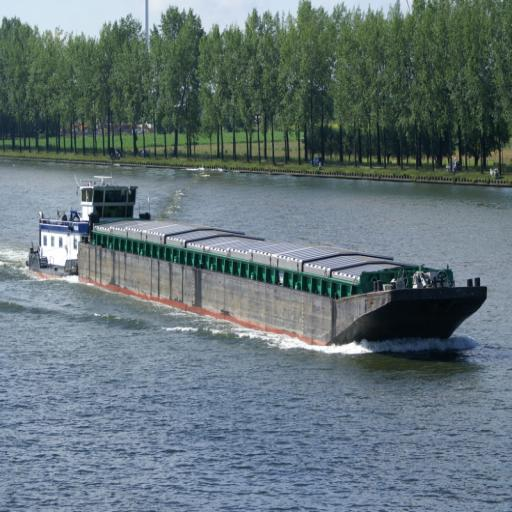tugboat: (25, 171, 155, 294)
